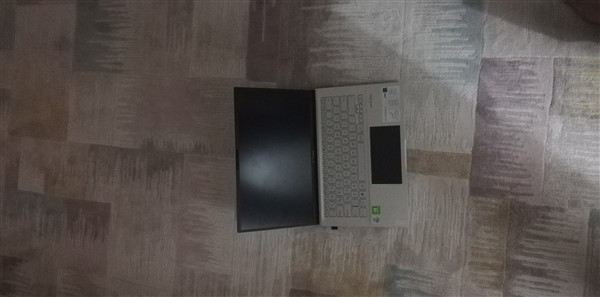laptop: (226, 81, 420, 234)
